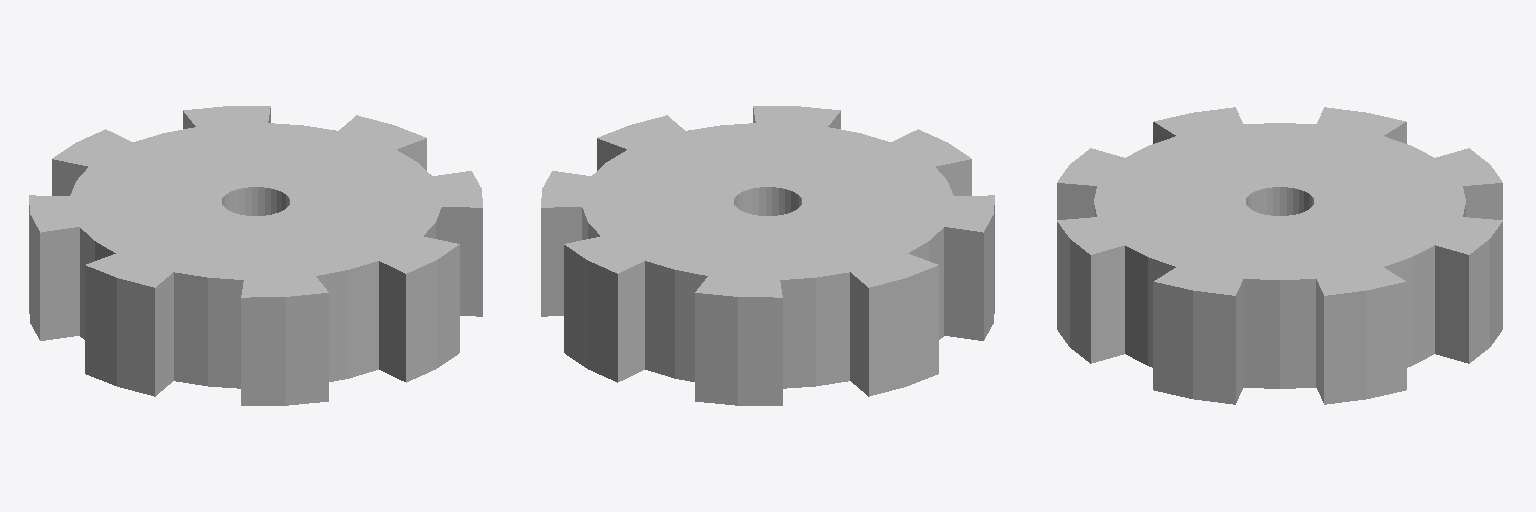
The model's file is auto_siever_gear.obj.
3 views of the same model, side by side, from view 1: azimuth 30°, elevation 25°; view 2: azimuth 150°, elevation 25°; view 3: azimuth 270°, elevation 25° (orthographic).
Parts seen in each view (by area): view 1: Gear.002; view 2: Gear.002; view 3: Gear.002.
Boxes of the visible parts, x1,y1,x2,y2 form: Gear.002: [29, 106, 482, 405]; Gear.002: [541, 106, 994, 405]; Gear.002: [1057, 107, 1502, 404].
Size of the model in its own units: 1.65 by 0.4427 by 1.65.